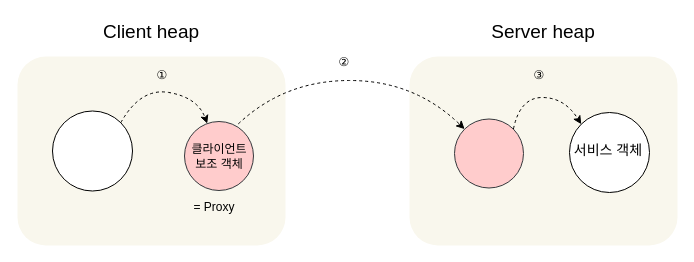
Some shapes in this 694 by 262 pixel diagram are drawn without their labels. Here are the shapes that lost their labels. From the top down, the centre of each, then its label:
At (92,150): "클라이언트 객체".
At (489,153): "서비스 보조 객체".
